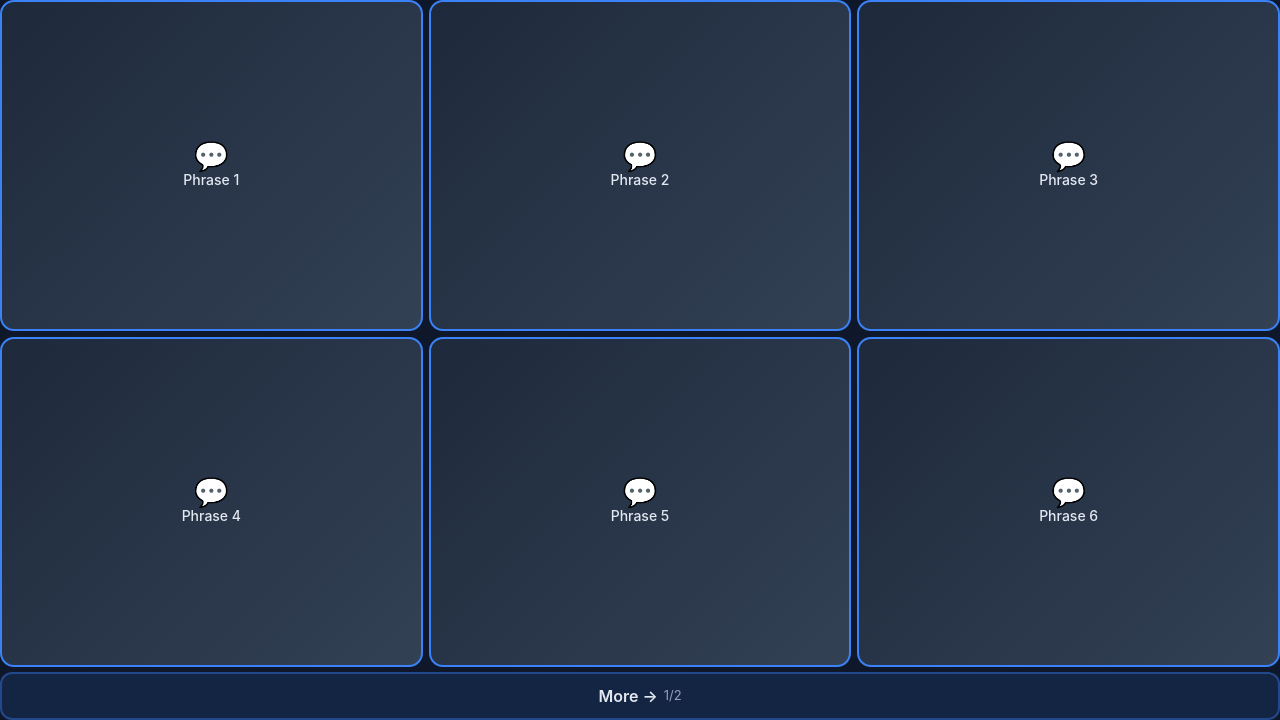
Test: PhraseGrid › navigates to next page on More click
Click the button "More → 1/2" at x=640, y=696, box [0,672,1279,719]
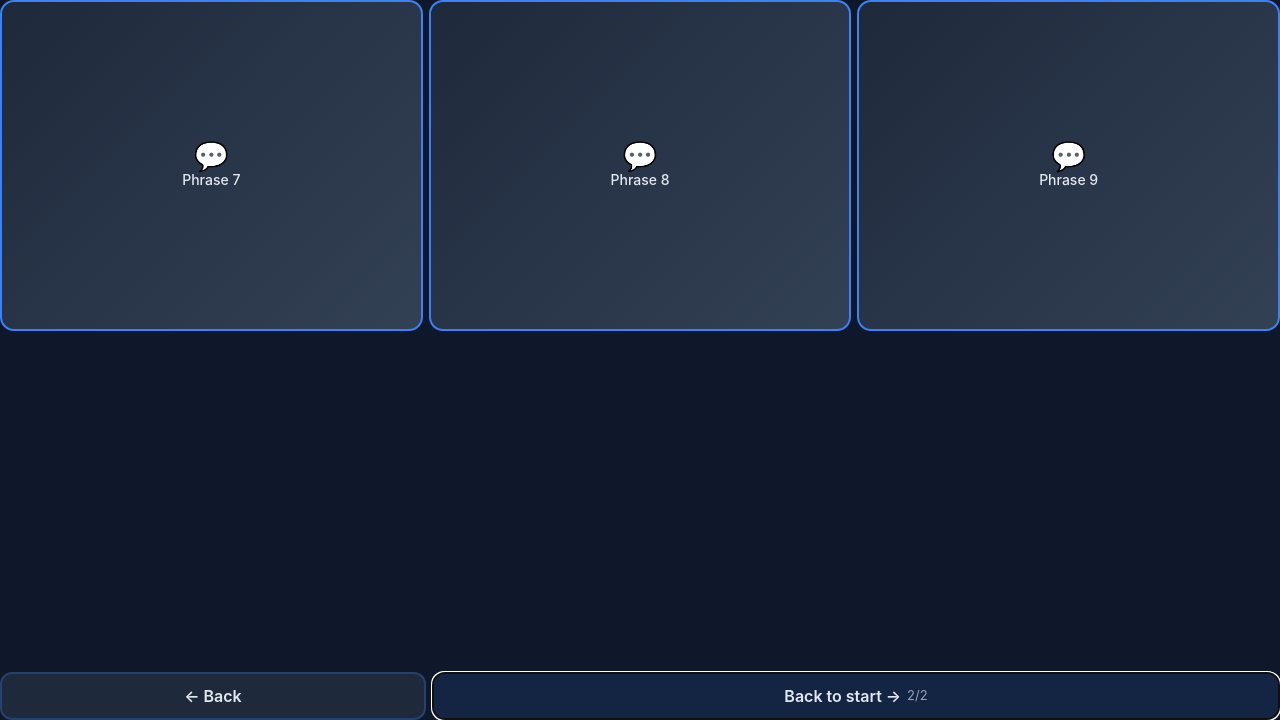
expect the text "Phrase 7" is shown: met, box [179,172,243,189]
expect the button "Phrase 1" is gone: met
